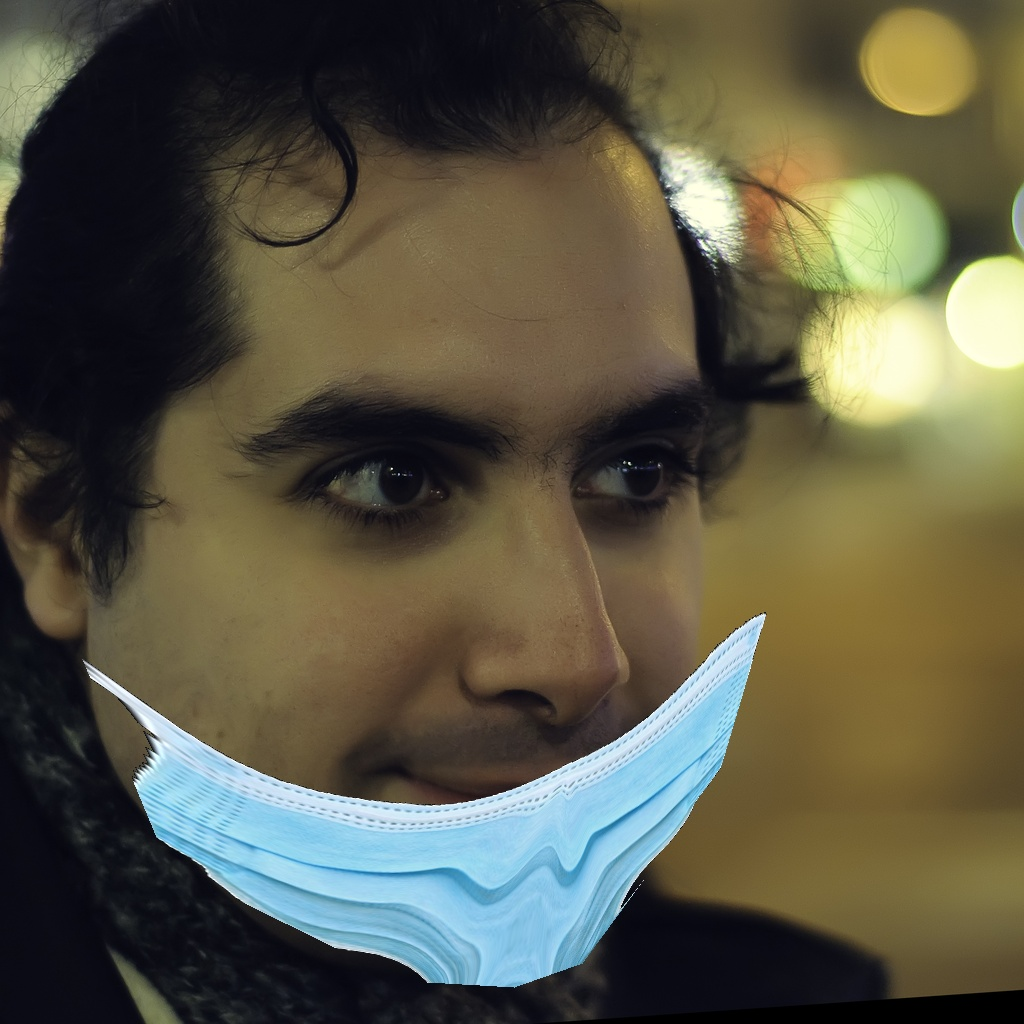Mask_Mouth_Chin: (102, 372, 764, 984)
